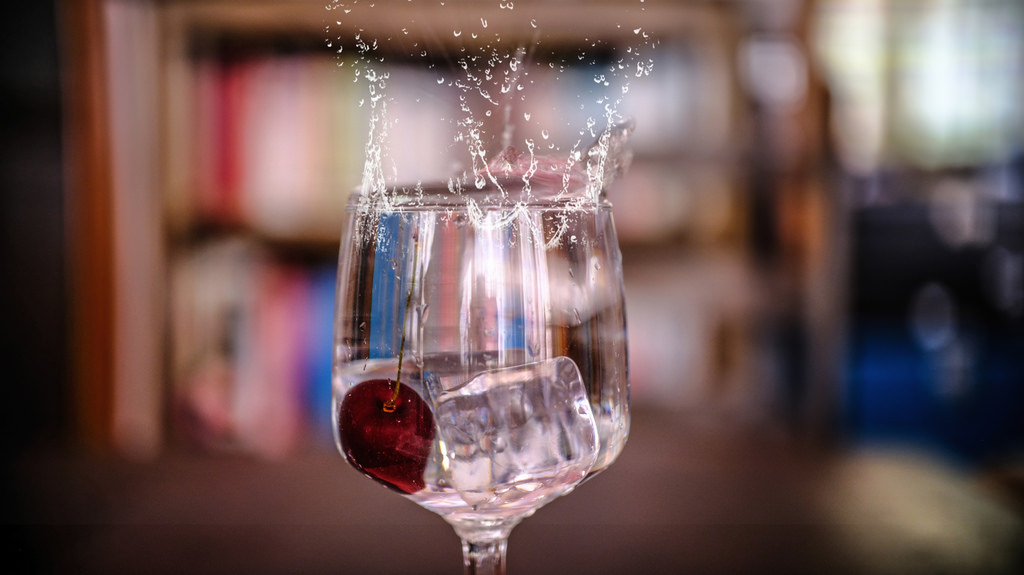glass of water: (337, 28, 634, 564)
